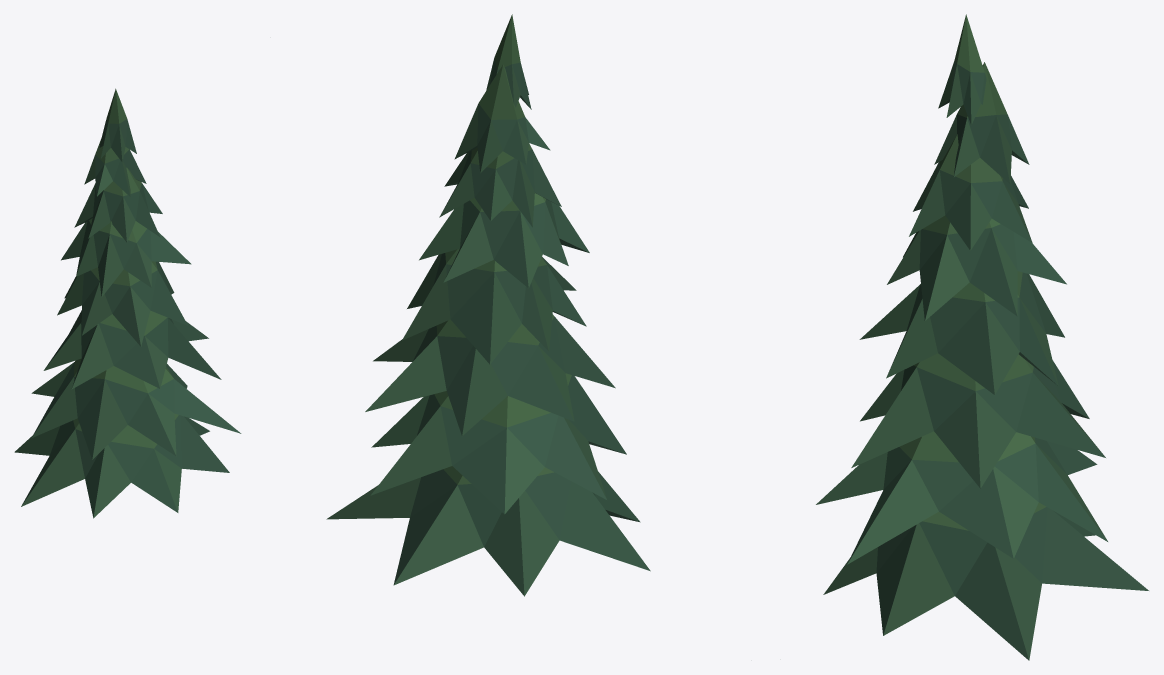
File: ShorePine1_leaf.glb
3 views of the same model, side by side, from view 1: azimuth 30°, elevation 25°; view 2: azimuth 150°, elevation 25°; view 3: azimuth 270°, elevation 25° (orthographic). The views are drawn at different scales.
Parts seen in each view (by area): view 1: ShorePine1_leaf; view 2: ShorePine1_leaf; view 3: ShorePine1_leaf.
Part boxes in pixels (bbox=[...]): ShorePine1_leaf: bbox=[14, 88, 241, 518]; ShorePine1_leaf: bbox=[326, 14, 650, 596]; ShorePine1_leaf: bbox=[816, 14, 1148, 660].
Size of the model in its own units: 12.23 by 25.31 by 11.66.
